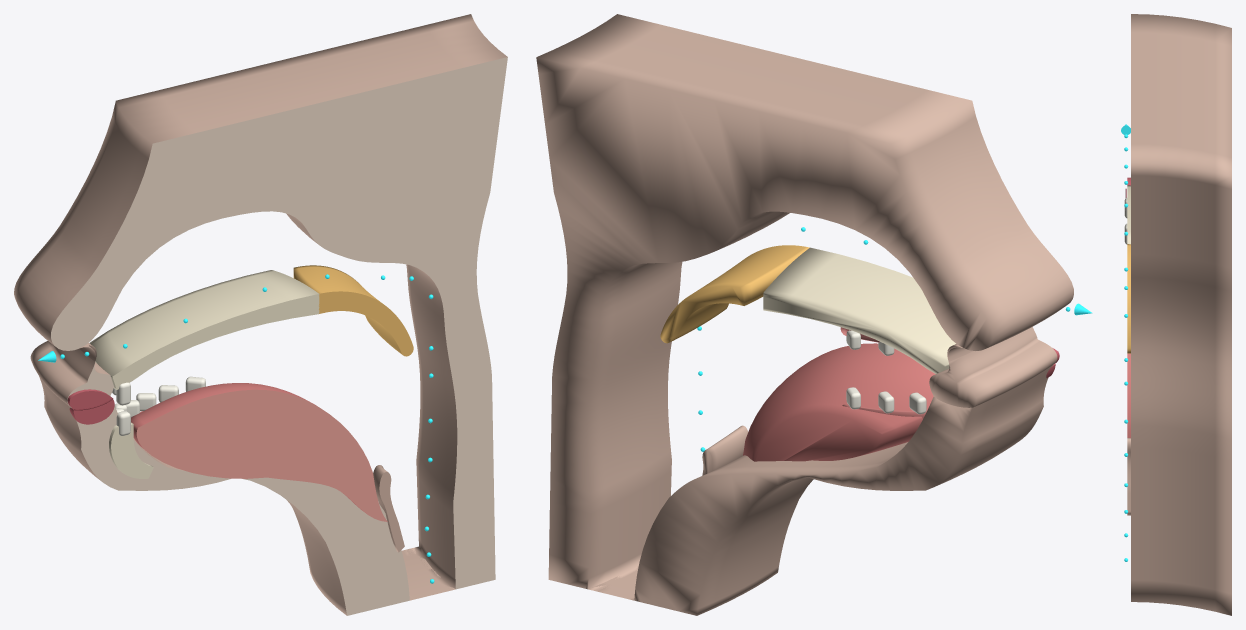
File: ma-articulation.glb
3 views of the same model, side by side, from view 1: azimuth 30°, elevation 25°; view 2: azimuth 150°, elevation 25°; view 3: azimuth 270°, elevation 25° (orthographic). The views are drawn at different scales.
Visible parts, largest first — view 1: 头颈半剖 · 连续腔壁, 舌体 · 连续形变, 硬腭, 软腭 · 降低到抬升, 下颌前部, 会厌 · 保持开放, 上唇; view 2: 头颈半剖 · 连续腔壁, 舌体 · 连续形变, 硬腭, 软腭 · 降低到抬升, 会厌 · 保持开放; view 3: 头颈半剖 · 连续腔壁, 软腭 · 降低到抬升, 舌体 · 连续形变, 会厌 · 保持开放, 硬腭.
Part boxes in pixels (x1,y1,x2,y2): 头颈半剖 · 连续腔壁: (14,14,507,615); 舌体 · 连续形变: (131,383,387,521); 硬腭: (89,270,319,389); 软腭 · 降低到抬升: (293,265,413,356); 下颌前部: (109,422,153,478); 会厌 · 保持开放: (373,465,404,552); 上唇: (67,389,111,409); 头颈半剖 · 连续腔壁: (536,14,1073,615); 舌体 · 连续形变: (743,343,935,461); 硬腭: (763,247,955,373); 软腭 · 降低到抬升: (660,245,809,343); 会厌 · 保持开放: (702,425,748,475); 头颈半剖 · 连续腔壁: (1131,14,1231,615); 软腭 · 降低到抬升: (1127,244,1130,353); 舌体 · 连续形变: (1127,353,1130,438); 会厌 · 保持开放: (1127,438,1130,515); 硬腭: (1127,185,1130,244).
Size of what is drawn, in the model's own units: 8 by 8.11 by 1.81.
